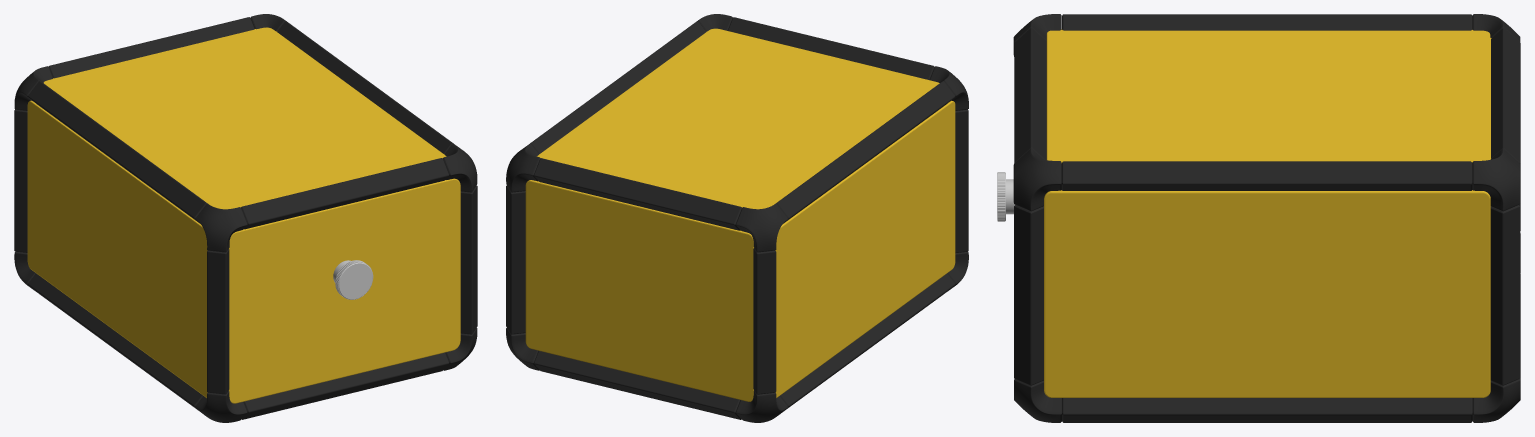
3 renders of one model, left to right at view 1: azimuth 30°, elevation 25°; view 2: azimuth 150°, elevation 25°; view 3: azimuth 270°, elevation 25°, orthographic. The views are drawn at different scales.
Parts seen in each view (by area): view 1: 229x329x154; view 2: 229x329x154; view 3: 229x329x154.
Part boxes in pixels (bbox=[...]): 229x329x154: bbox=[14, 14, 477, 422]; 229x329x154: bbox=[506, 14, 968, 422]; 229x329x154: bbox=[997, 14, 1520, 422].
Bounding box in the file's own units: 0.3067 × 0.2316 × 0.4196.
